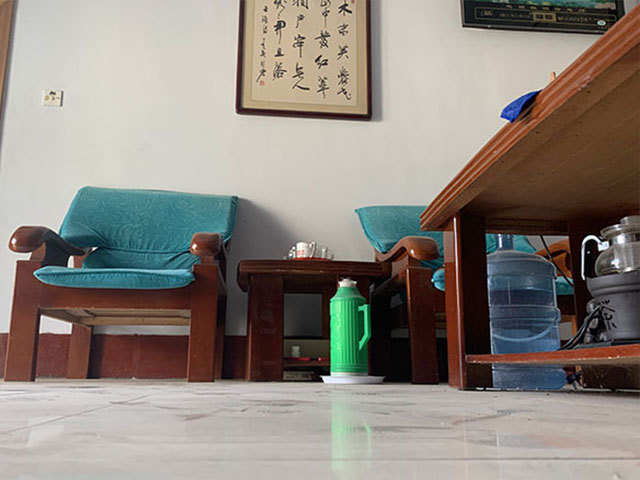stool: (4, 184, 240, 382)
table: (417, 1, 640, 392), (235, 256, 384, 385)
